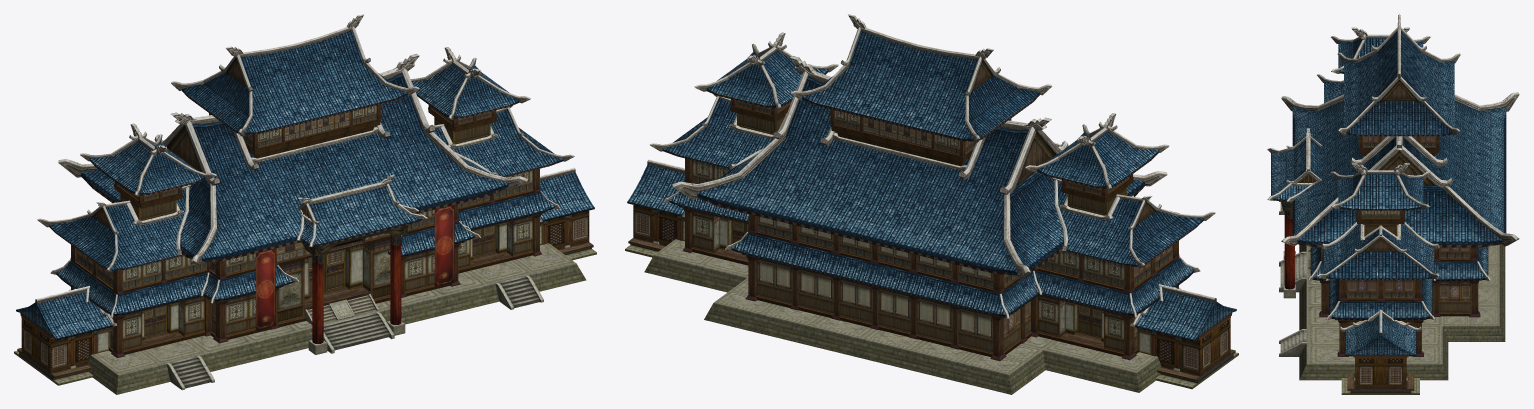
Rendered from secret_house_01.fbx.
3 views of the same model, side by side, from view 1: azimuth 30°, elevation 25°; view 2: azimuth 150°, elevation 25°; view 3: azimuth 270°, elevation 25° (orthographic). The views are drawn at different scales.
Parts seen in each view (by area): view 1: secret_house_01; view 2: secret_house_01; view 3: secret_house_01.
Boxes of the visible parts, left/top/right/bottom form: secret_house_01: left=14, top=14, right=596, bottom=394; secret_house_01: left=625, top=14, right=1238, bottom=394; secret_house_01: left=1267, top=14, right=1519, bottom=394.
Size of the model in its own units: 90 by 42.38 by 41.3.
